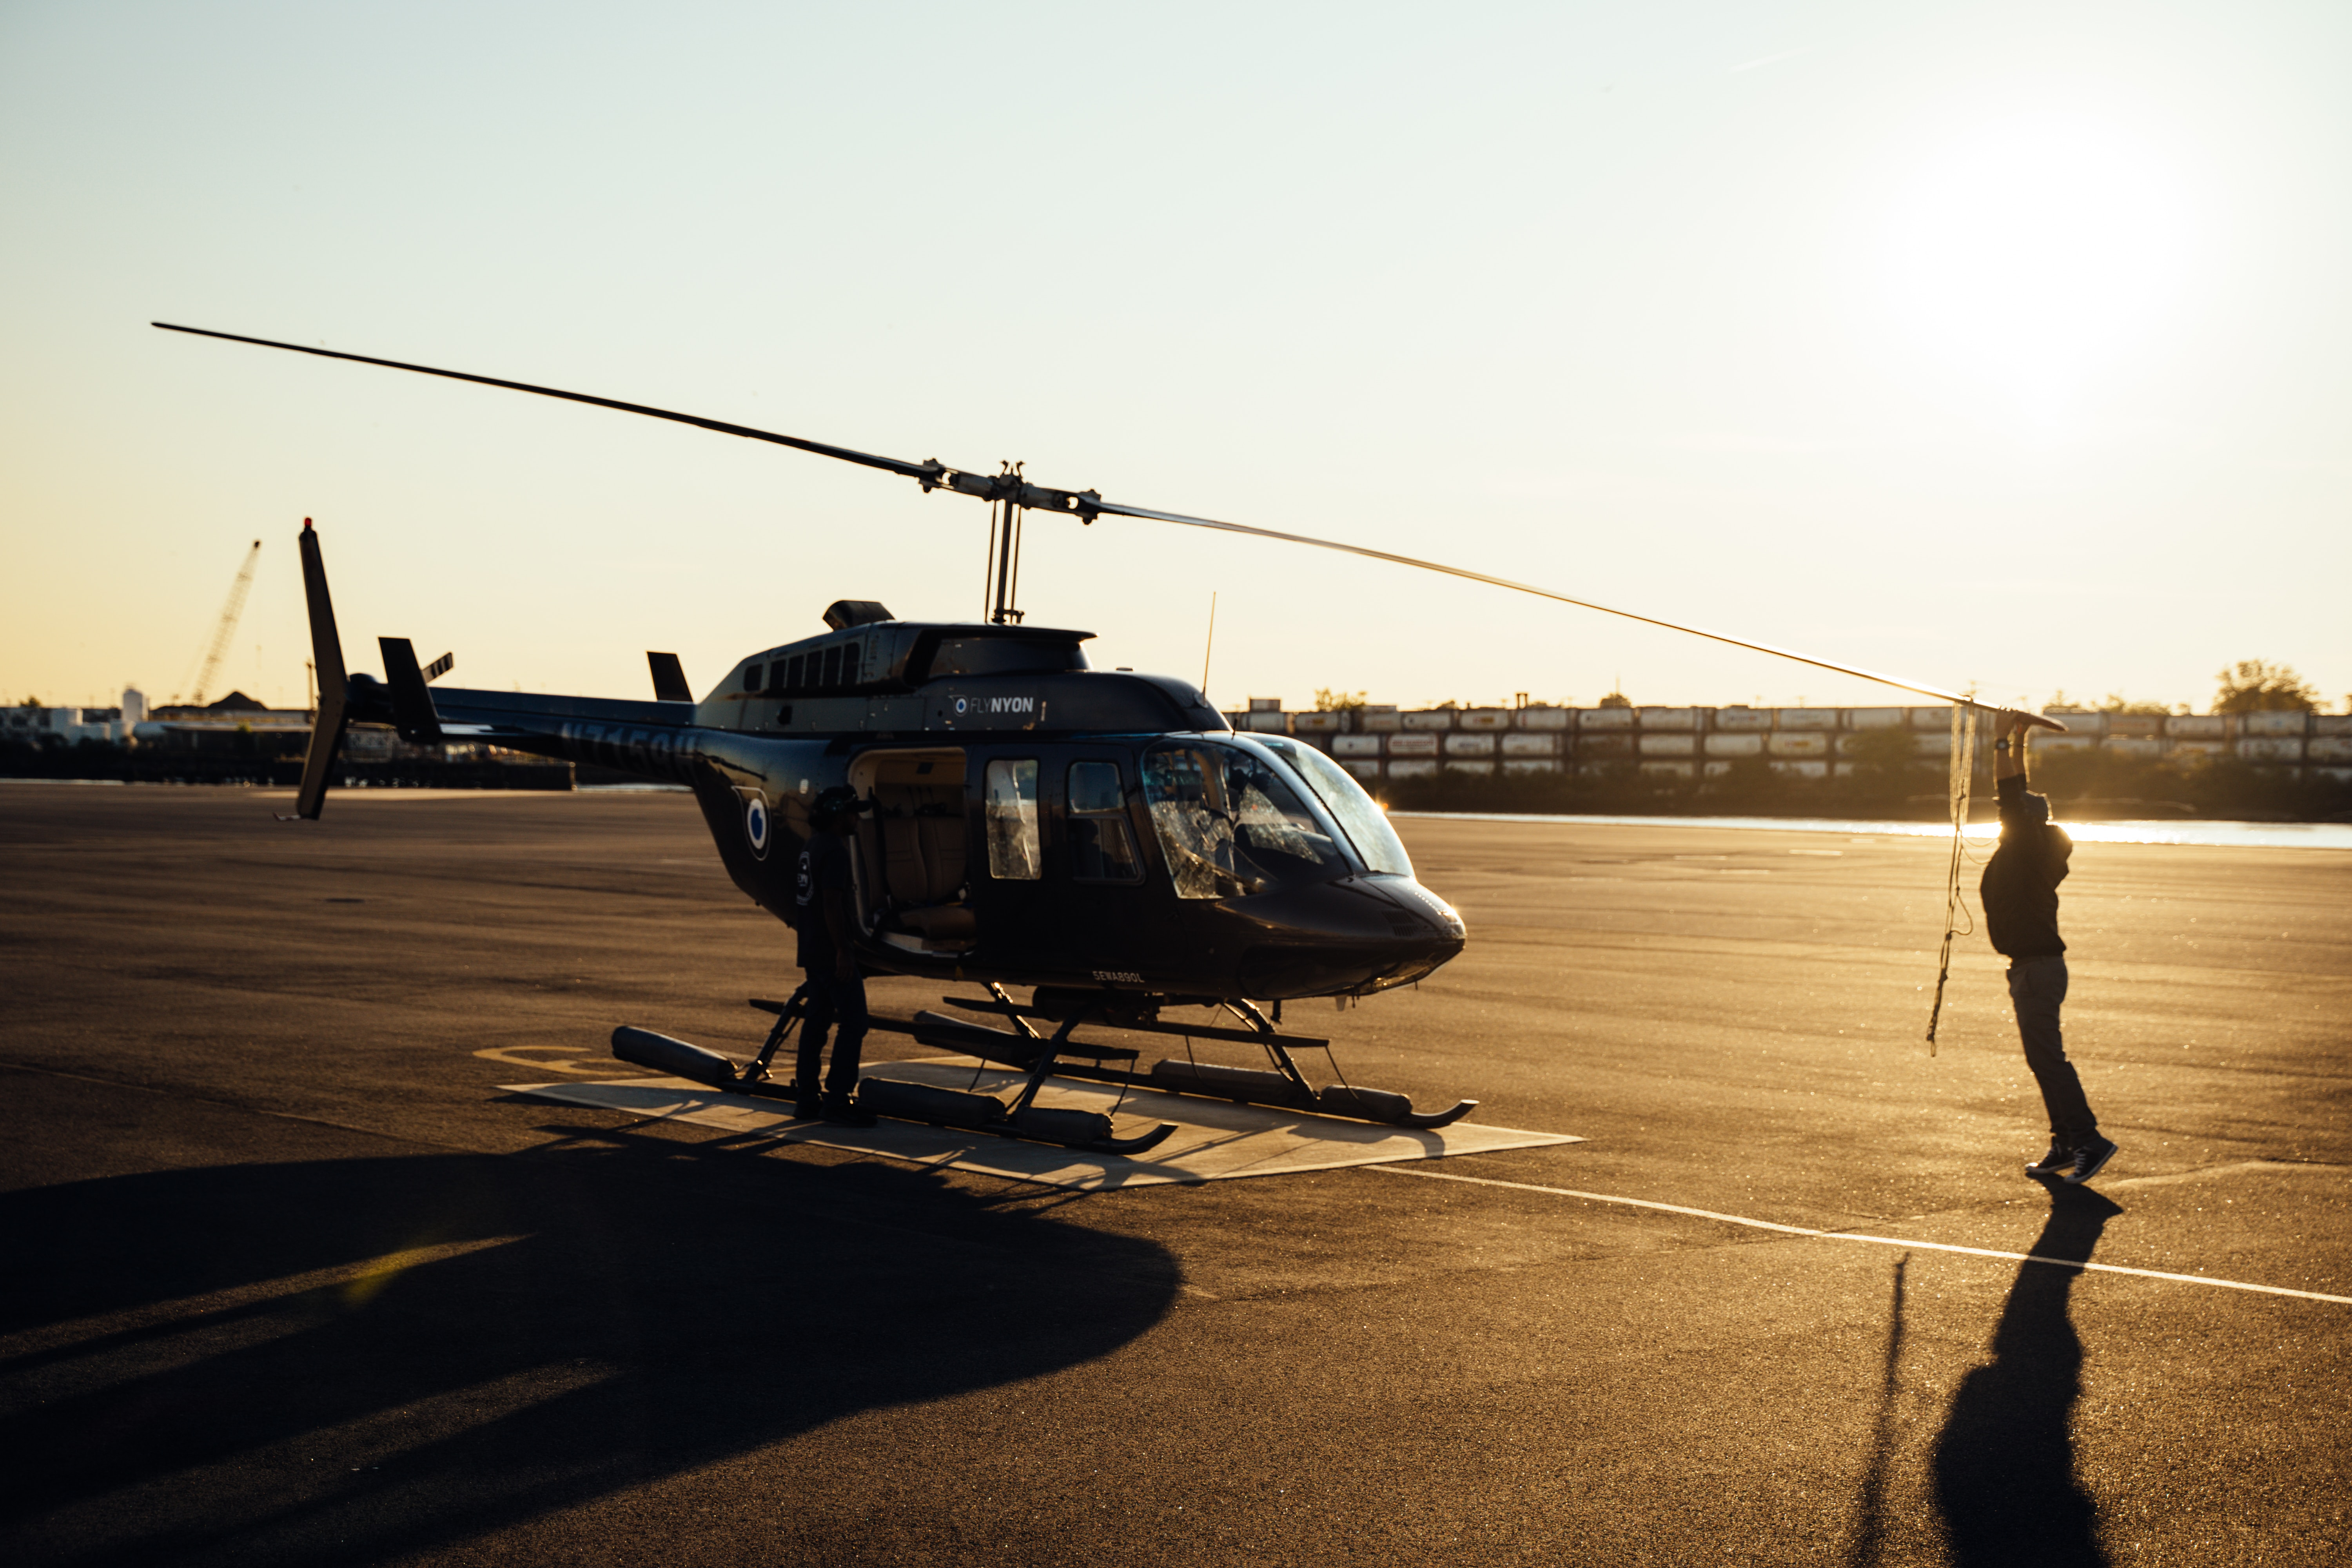helicopter: (32, 179, 1964, 1272)
